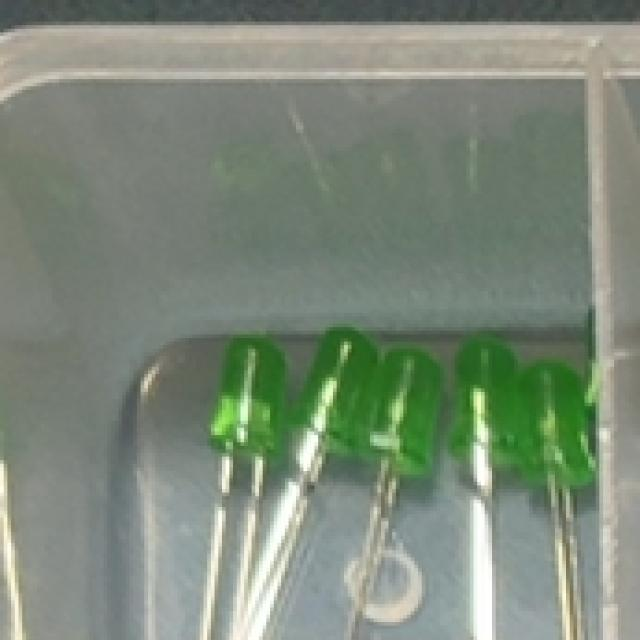GREEN_LED: (255, 323, 373, 640), (198, 345, 294, 640), (359, 338, 444, 640), (515, 354, 601, 640), (451, 323, 517, 640)
